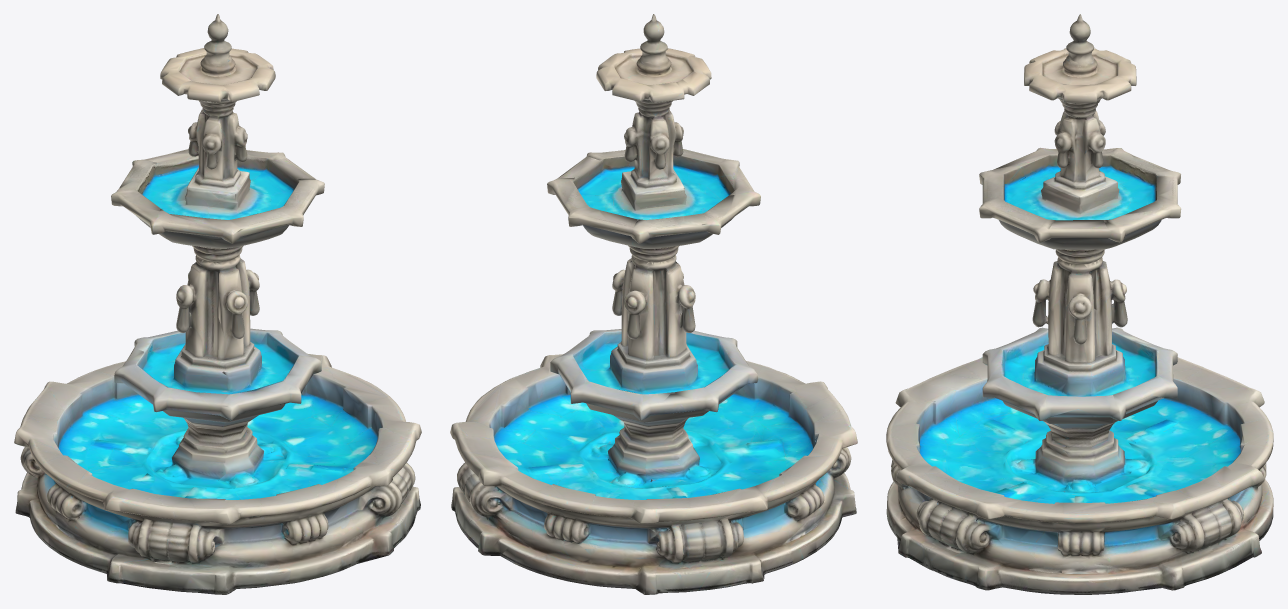
The model's file is base-fountain.glb.
The picture shows the model from 3 angles, left to right: view 1: azimuth 30°, elevation 25°; view 2: azimuth 150°, elevation 25°; view 3: azimuth 270°, elevation 25°; orthographic projection.
Size of the model in its own units: 1.34 by 1.91 by 1.34.
Materials: 1 (1 with a texture image).
